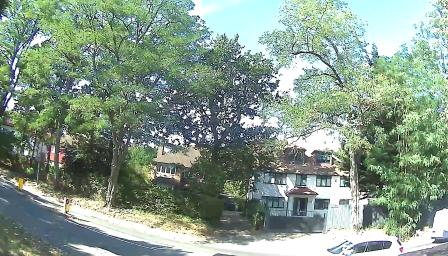Cars: (288, 222, 425, 256)
